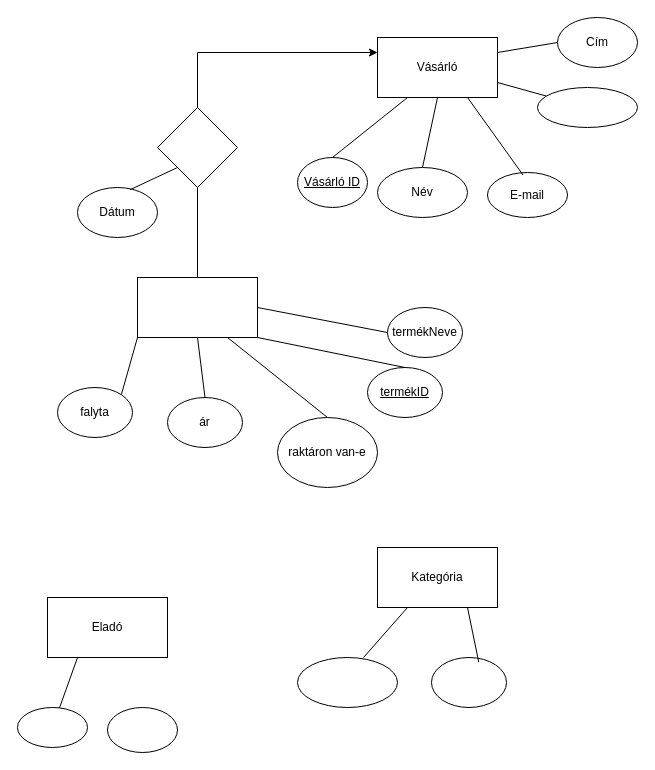
Image size: 655x770. Some labels were removed from this diagram. Each missing label, with the centre of its shape:
"Eladó Cím" belongs at (142,729).
"Eladó ID" belongs at (52,727).
"Kategória ID" belongs at (347,682).
"Kateória név" belongs at (468,682).
"Rendelés" belongs at (197,147).
"Telefonszám" belongs at (587,107).
"Termék" belongs at (197,307).
